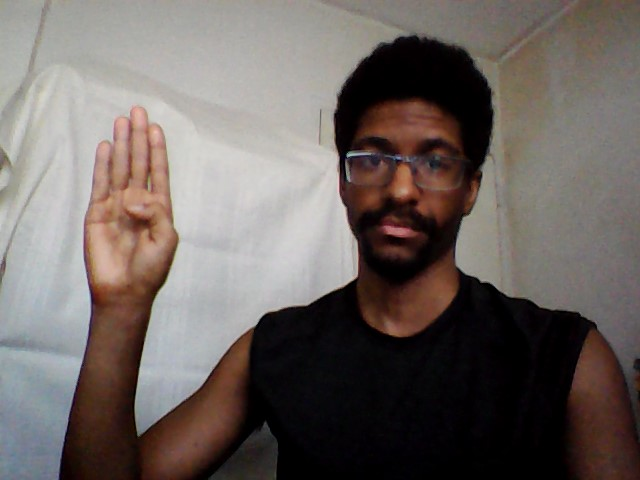b: (78, 101, 182, 307)
